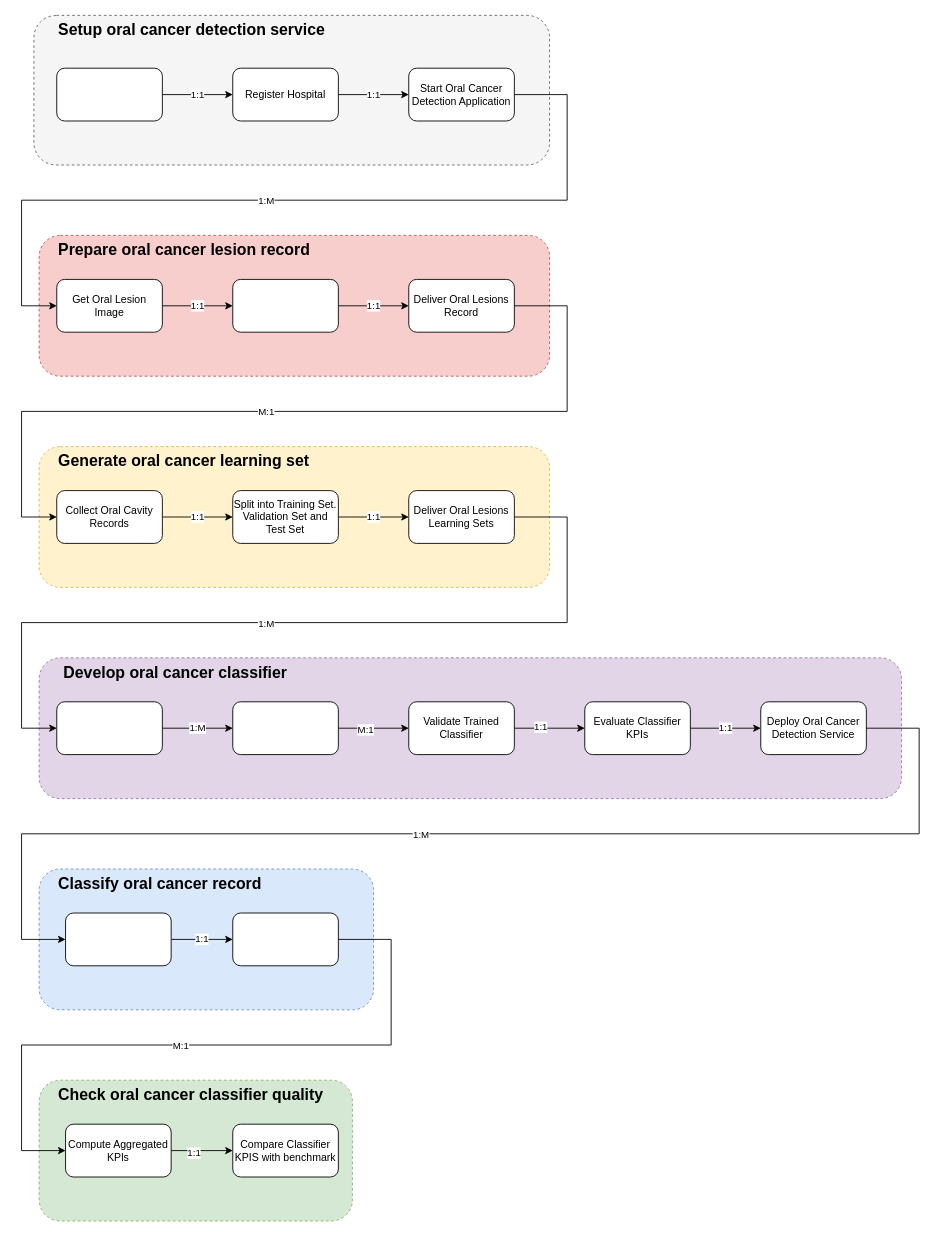
The diagram is 942 pixels wide and 1243 high, and some of its shapes have lost their labels. The shapes that lost their labels are listed below. From the top down, each one's centre as x and y in pixels, then its label:
At [109,94]: "Install Oral Cancer Detectjon Application".
At [285,305]: "Extract Features from Oral Cavity Image".
At [109,728]: "Retrieve Learning Sets".
At [285,728]: "Train Oral Lesions Classifier".
At [118,939]: "Submit Oral Cavity Image to the Application".
At [285,939]: "Classify Oral Lesions".
